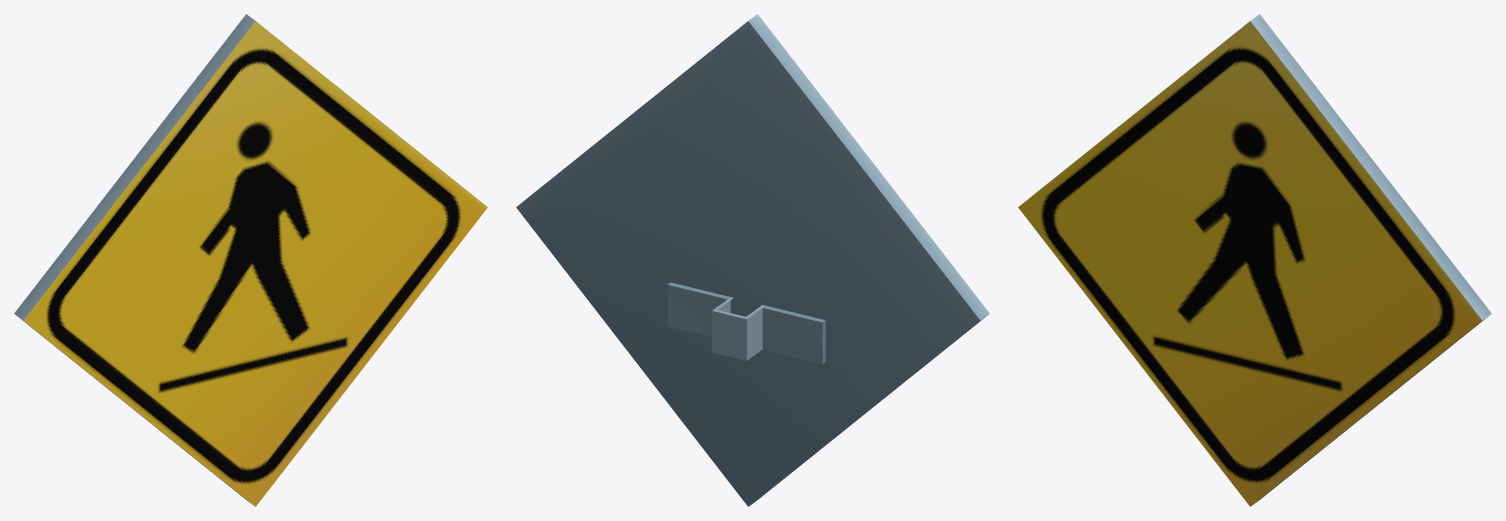
File: Sign26.fbx
The picture shows the model from 3 angles, left to right: view 1: azimuth 30°, elevation 25°; view 2: azimuth 150°, elevation 25°; view 3: azimuth 330°, elevation 25°; orthographic projection.
Visible parts, largest first — view 1: Sign26; view 2: Sign26; view 3: Sign26.
Part boxes in pixels (x1,y1,x2,y2): Sign26: [14, 14, 487, 506]; Sign26: [516, 14, 989, 506]; Sign26: [1018, 14, 1491, 506].
Bounding box in the file's own units: 1.41 × 0.1489 × 1.41.
